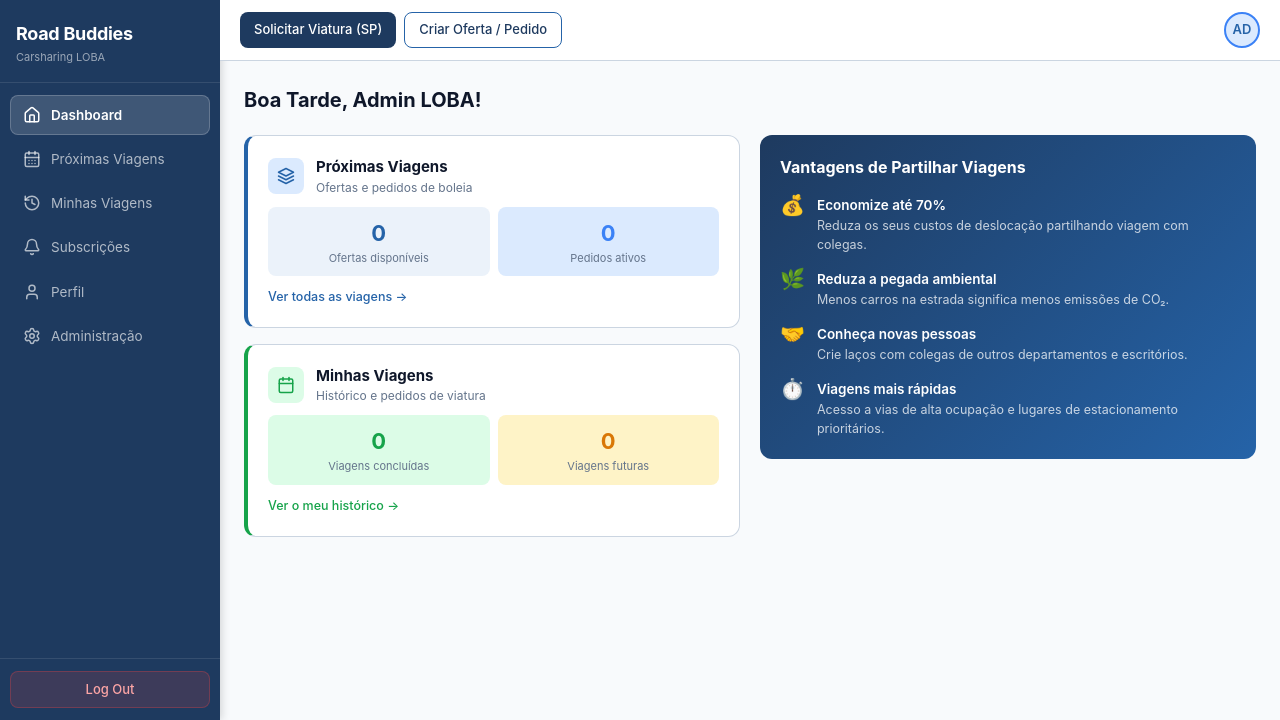
Scenario: Administração › deve navegar para a aba de cidades e listar localidades
Expected: the text "Road Buddies" is shown, [16,20,133,47]
Step 1. Click the button "Administração" → (83, 336), box [23,327,143,345]
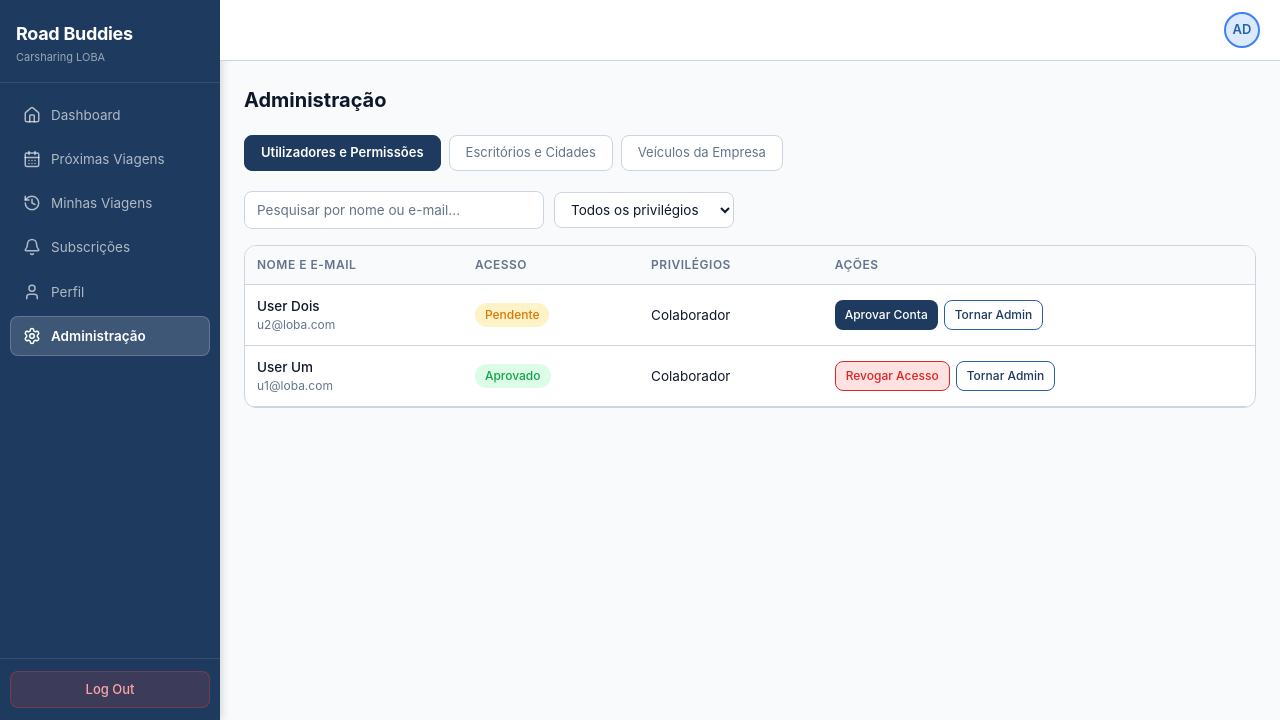
Step 2. Click the button "Escritórios e Cidades" → (531, 153), box [449,135,613,171]
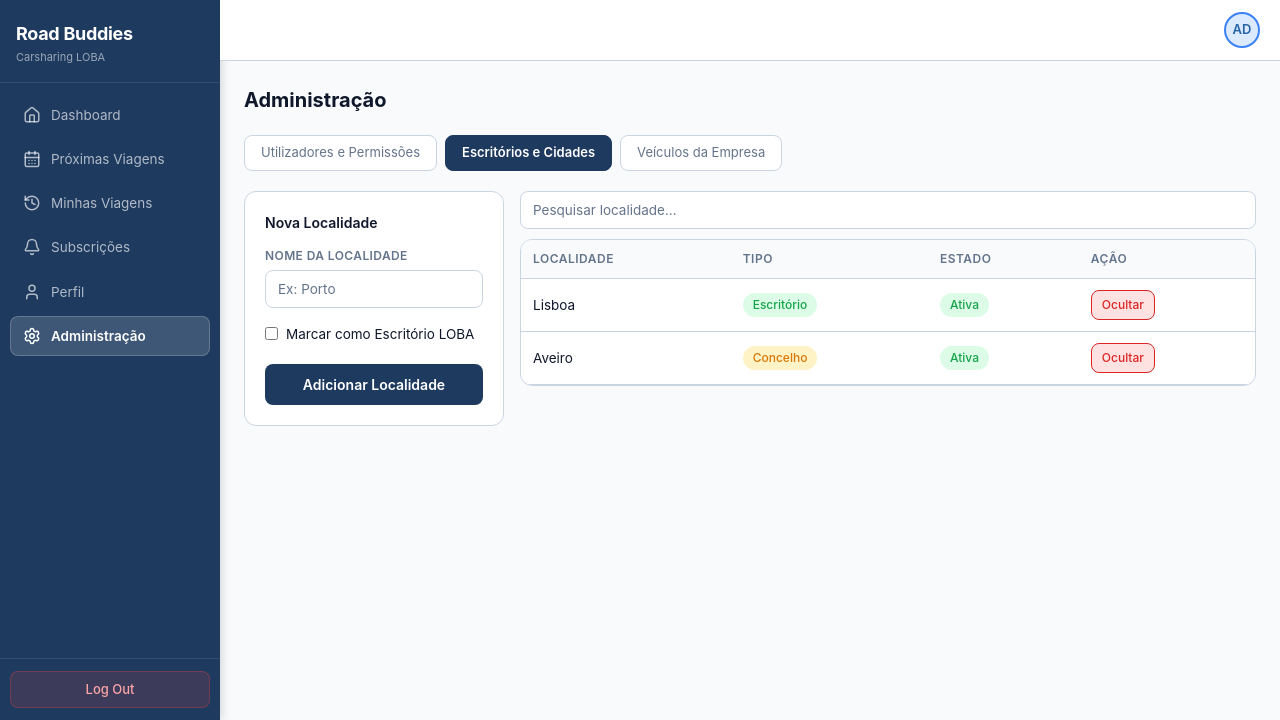
Expected: the text "Lisboa" is shown, [521,278,731,331]
Expected: the text "Aveiro" is shown, [521,331,731,384]
Expected: the text "Nova Localidade" is shown, [265,214,378,230]
